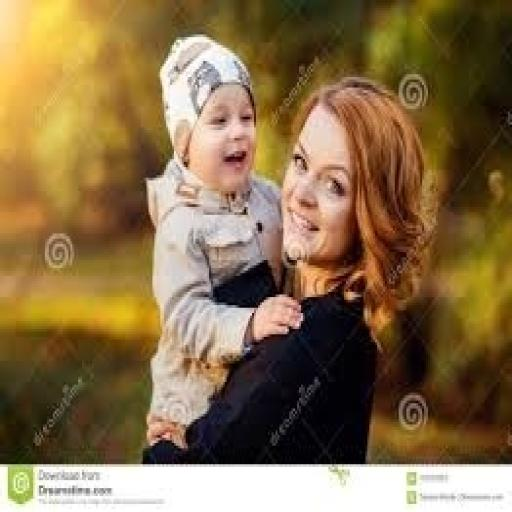hugging: (140, 72, 438, 464), (139, 32, 299, 456)
